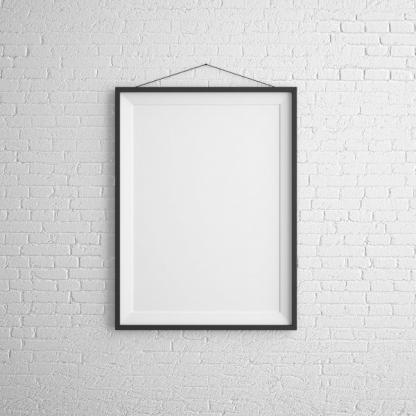picture frame: (99, 37, 344, 369)
